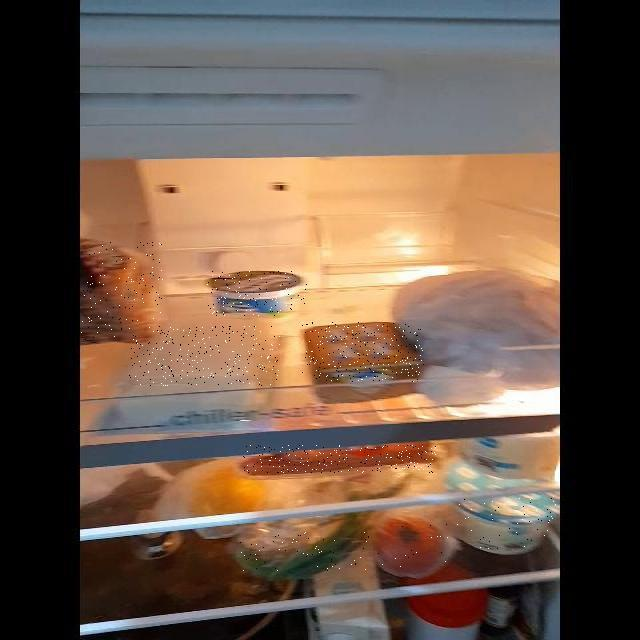bread: (82, 242, 164, 342)
butter: (302, 322, 424, 382)
carrot: (243, 445, 437, 473)
cheese: (129, 326, 280, 386)
green chilies: (232, 532, 369, 571)
lemon: (186, 473, 274, 513)
tomato: (370, 521, 450, 569)
yoghurt: (457, 498, 562, 551), (207, 271, 307, 316)
